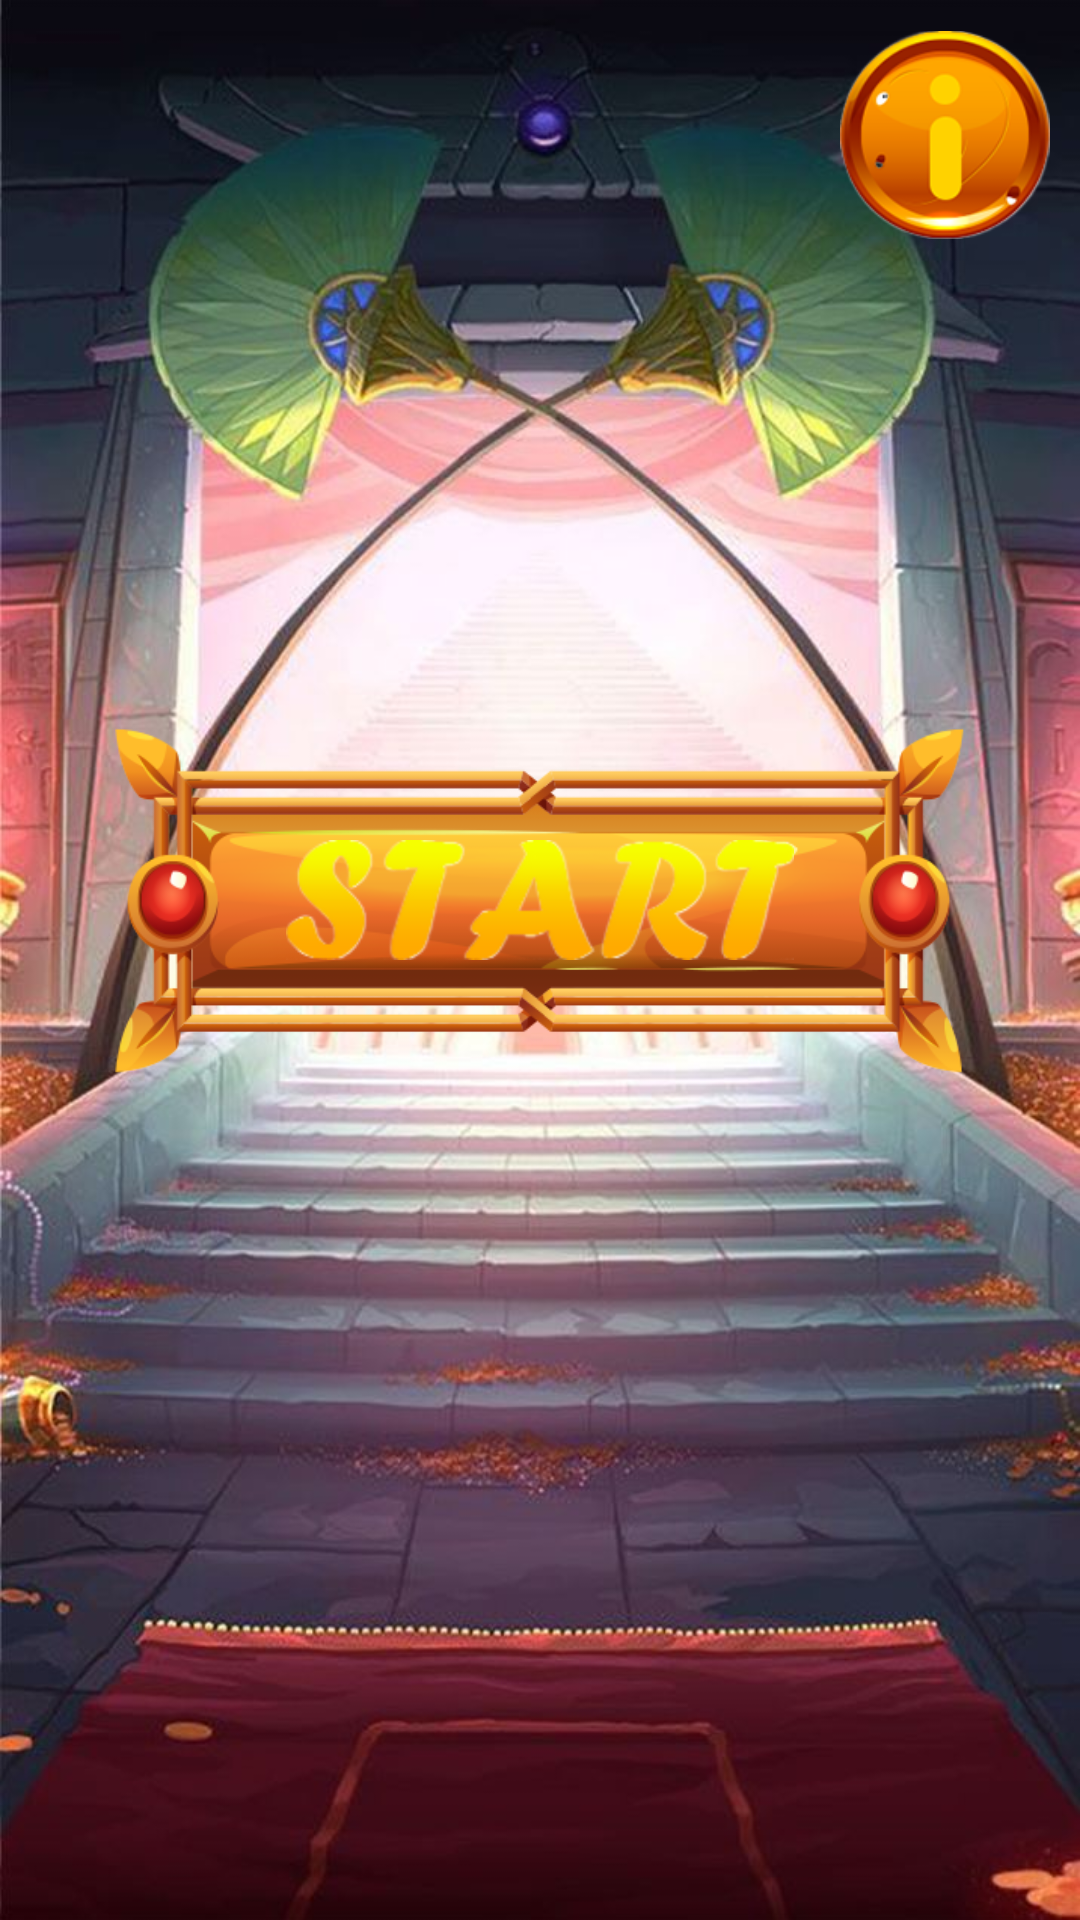

Icon click points for this 1080 × 1920 phone screenshot, format [x,y]:
info: [945,135]
